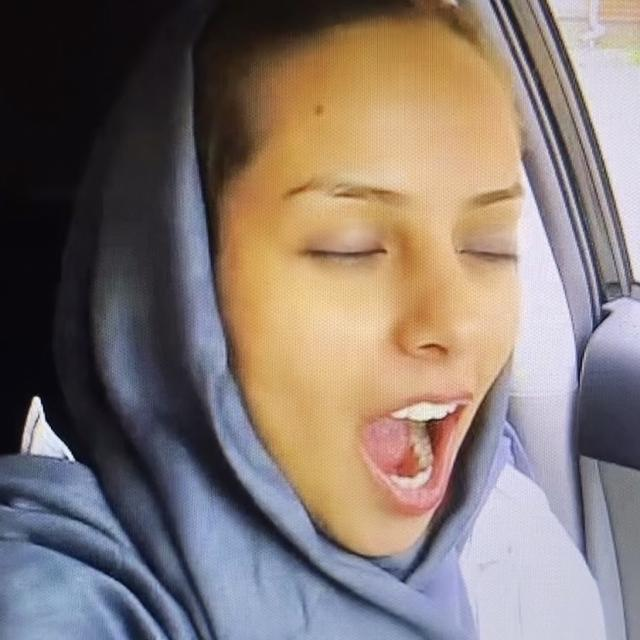open-mouth: (360, 384, 474, 522)
